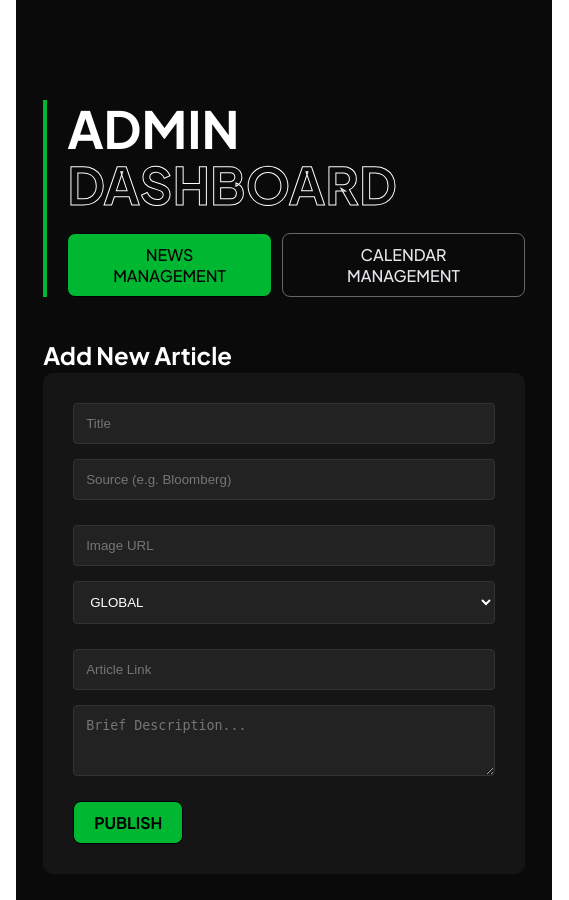
Test: AdminPanel › CALENDAR MANAGEMENT tabra váltáskor megjelenik a naptár form
What coordinates should you click on to do the following:
click the button "CALENDAR MANAGEMENT"
I would click on:
 (403, 265)
Its box is [282,233,525,297].
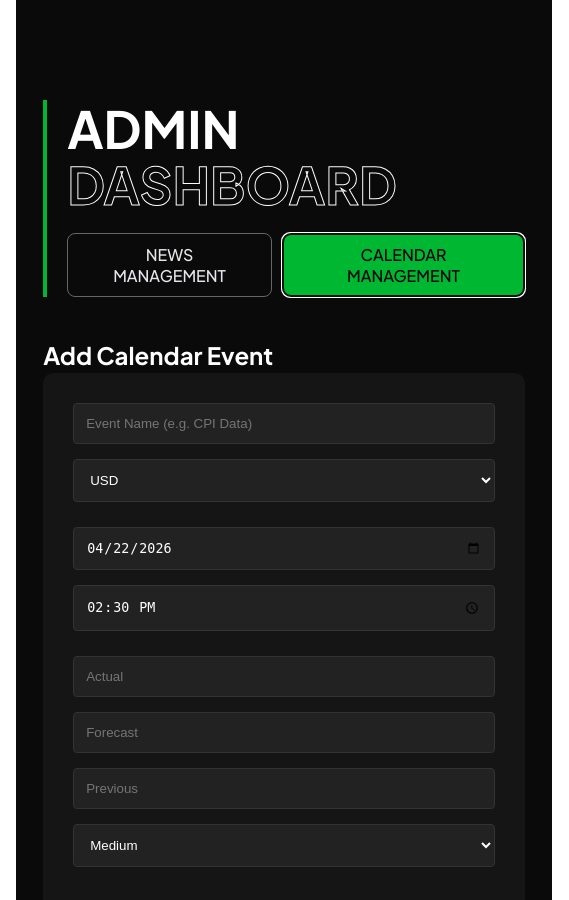
expect the heading "Add Calendar Event" is shown: met, box [43,340,273,370]
